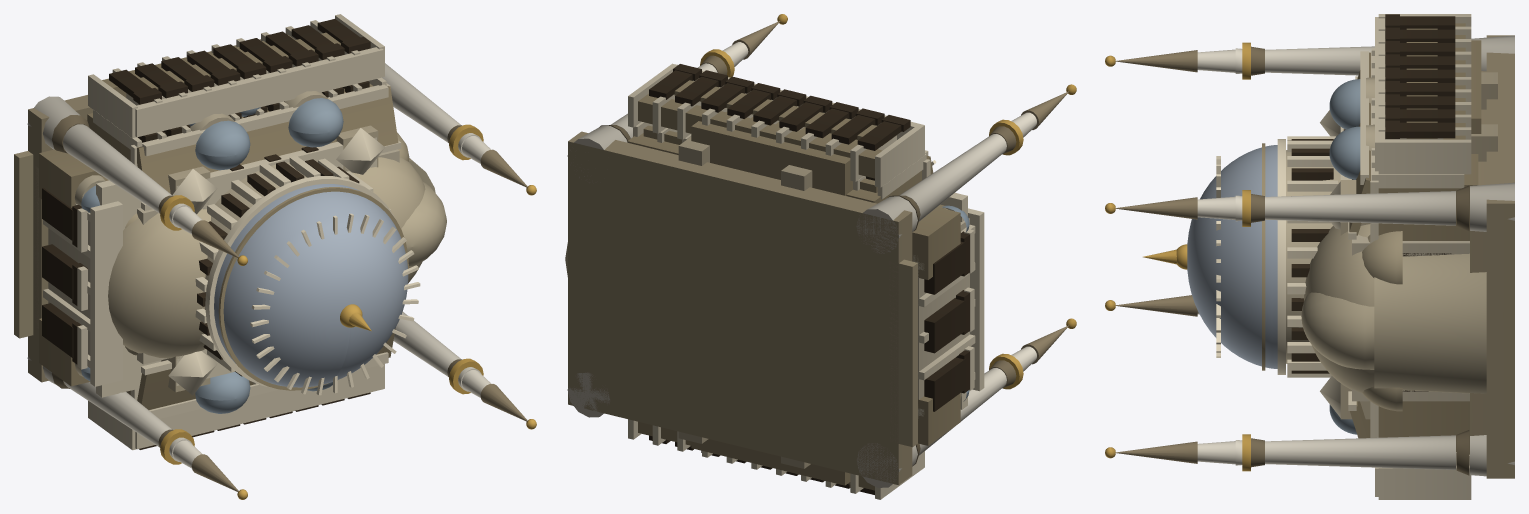
The model's file is hagia-sophia.glb.
The picture shows the model from 3 angles, left to right: view 1: azimuth 30°, elevation 25°; view 2: azimuth 150°, elevation 25°; view 3: azimuth 270°, elevation 25°; orthographic projection. The views are drawn at different scales.
Visible parts, largest first — view 1: part-cornice, part-dome, part-arch, part-semidome, part-wallShade, part-minaret, part-smallDome, part-stair, part-minaretCap, part-podium, part-gold, part-apse (+3 smaller); view 2: part-podium, part-wallShade, part-arch, part-cornice, part-minaret, part-stair, part-minaretCap, part-buttress, part-wall, part-gold; view 3: part-cornice, part-minaret, part-apse, part-dome, part-podium, part-arch, part-wallShade, part-minaretCap, part-semidome, part-smallDome, part-exedra, part-drum (+3 smaller).
Boxes of the visible parts, bbox=[...] form: part-cornice: bbox=[43, 14, 420, 450]; part-dome: bbox=[214, 184, 408, 387]; part-arch: bbox=[42, 19, 370, 449]; part-semidome: bbox=[108, 157, 425, 358]; part-wallShade: bbox=[39, 32, 408, 409]; part-minaret: bbox=[27, 63, 491, 468]; part-smallDome: bbox=[81, 98, 343, 413]; part-stair: bbox=[14, 151, 38, 338]; part-minaretCap: bbox=[52, 115, 527, 491]; part-podium: bbox=[28, 95, 92, 382]; part-gold: bbox=[160, 124, 536, 499]; part-apse: bbox=[401, 158, 446, 265]; part-podium: bbox=[568, 131, 912, 485]; part-wallShade: bbox=[627, 80, 960, 490]; part-arch: bbox=[649, 64, 969, 494]; part-cornice: bbox=[628, 63, 984, 499]; part-minaret: bbox=[567, 42, 1036, 487]; part-stair: bbox=[889, 259, 917, 447]; part-minaretCap: bbox=[600, 21, 1068, 466]; part-buttress: bbox=[678, 137, 812, 468]; part-wall: bbox=[912, 218, 969, 418]; part-gold: bbox=[700, 14, 1076, 389]; part-cornice: bbox=[1216, 14, 1471, 499]; part-minaret: bbox=[1197, 35, 1514, 476]; part-apse: bbox=[1301, 253, 1486, 393]; part-dome: bbox=[1187, 145, 1277, 368]; part-podium: bbox=[1470, 35, 1514, 478]; part-arch: bbox=[1291, 14, 1455, 391]; part-wallShade: bbox=[1262, 23, 1481, 454]; part-minaretCap: bbox=[1115, 46, 1469, 475]; part-semidome: bbox=[1304, 224, 1374, 392]; part-smallDome: bbox=[1329, 79, 1360, 434]; part-exedra: bbox=[1362, 231, 1402, 411]; part-drum: bbox=[1286, 77, 1374, 363].
Size of the model in its own units: 1.55 by 1.44 by 1.46.
